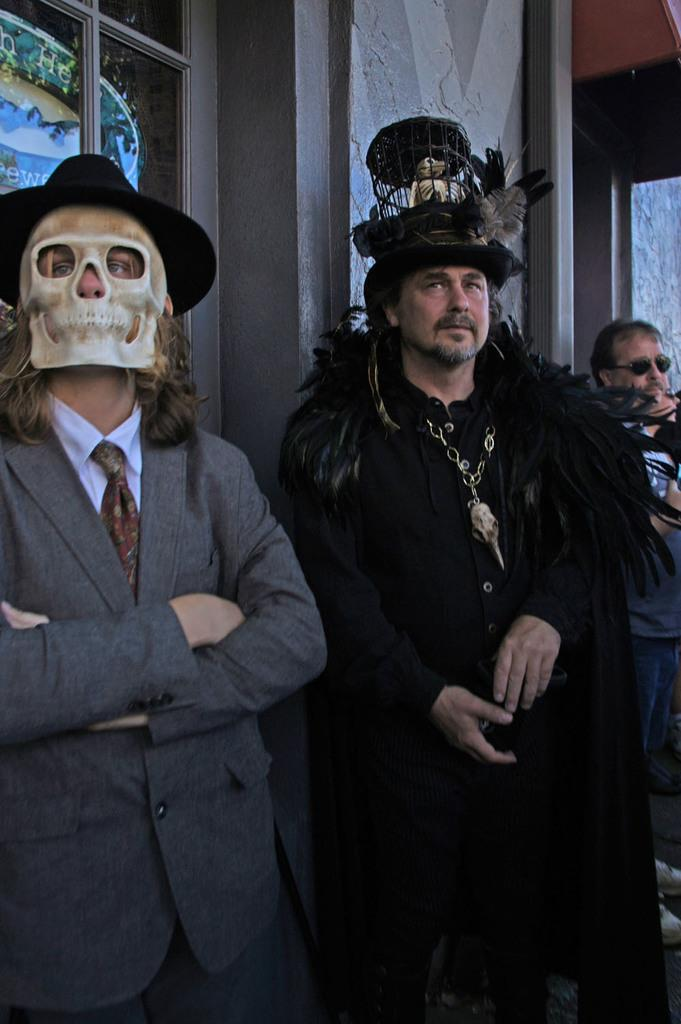Hat: (0, 152, 217, 316), (362, 210, 530, 314)
